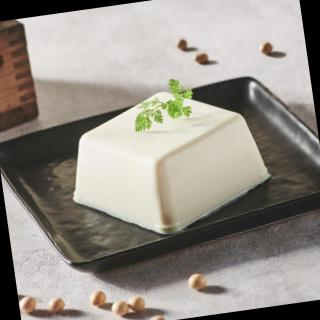Tahu: (34, 72, 290, 247)
